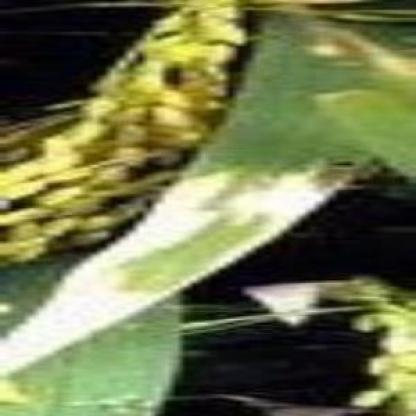Blight: (1, 198, 271, 382), (159, 174, 348, 223)
